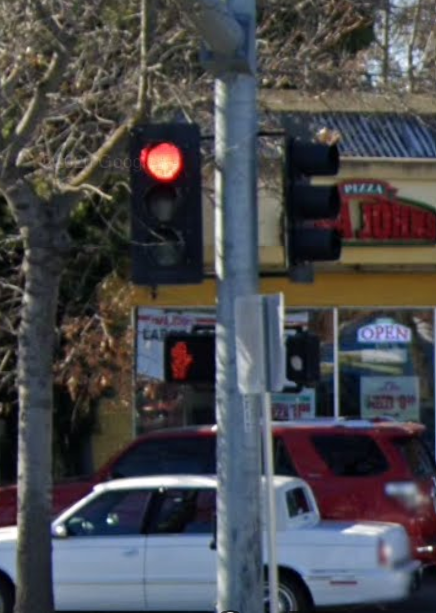red_light: (137, 129, 196, 279)
